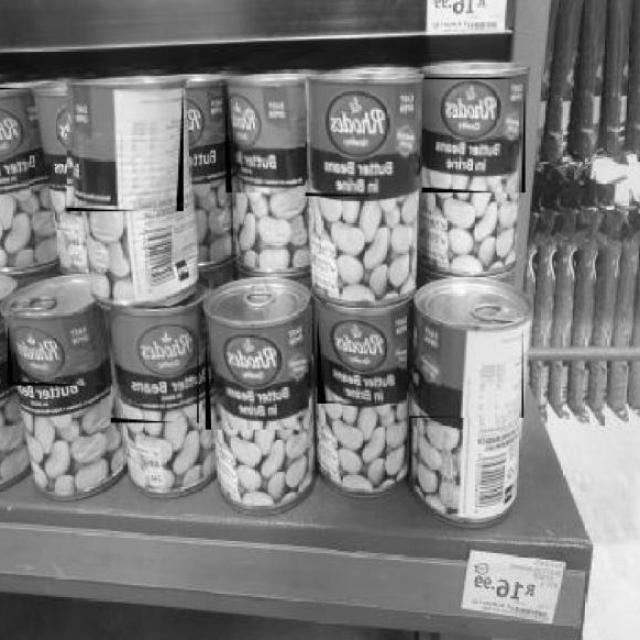Beans: (65, 85, 184, 213), (303, 80, 418, 198), (204, 311, 309, 431), (421, 79, 526, 194), (409, 325, 523, 420), (109, 306, 199, 424), (422, 78, 517, 181), (316, 302, 407, 404), (224, 78, 297, 195), (5, 313, 103, 388), (0, 88, 30, 196)
